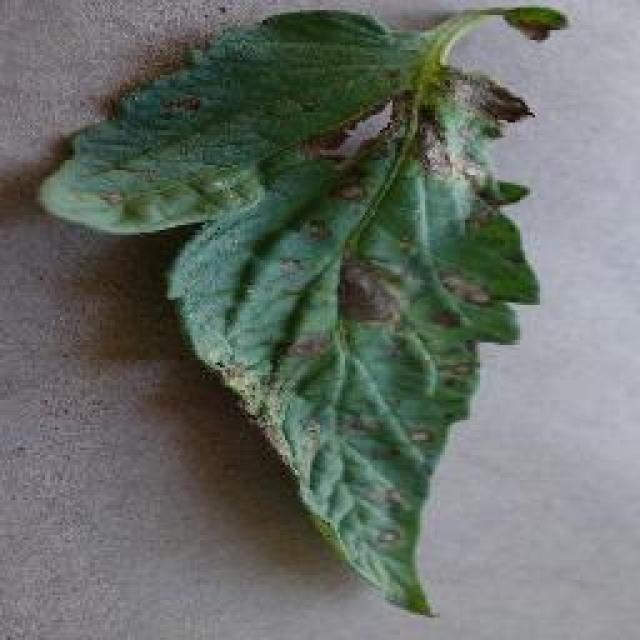Tomato___Early_blight: (30, 4, 571, 622)
